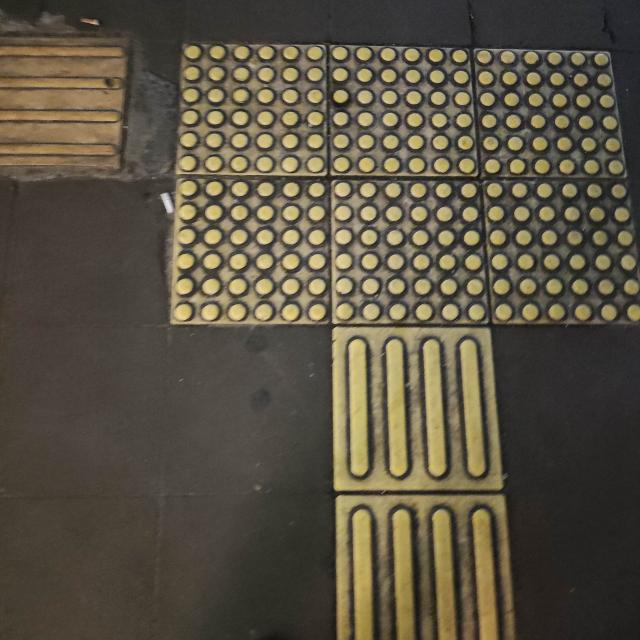kiri: (0, 24, 491, 465)
